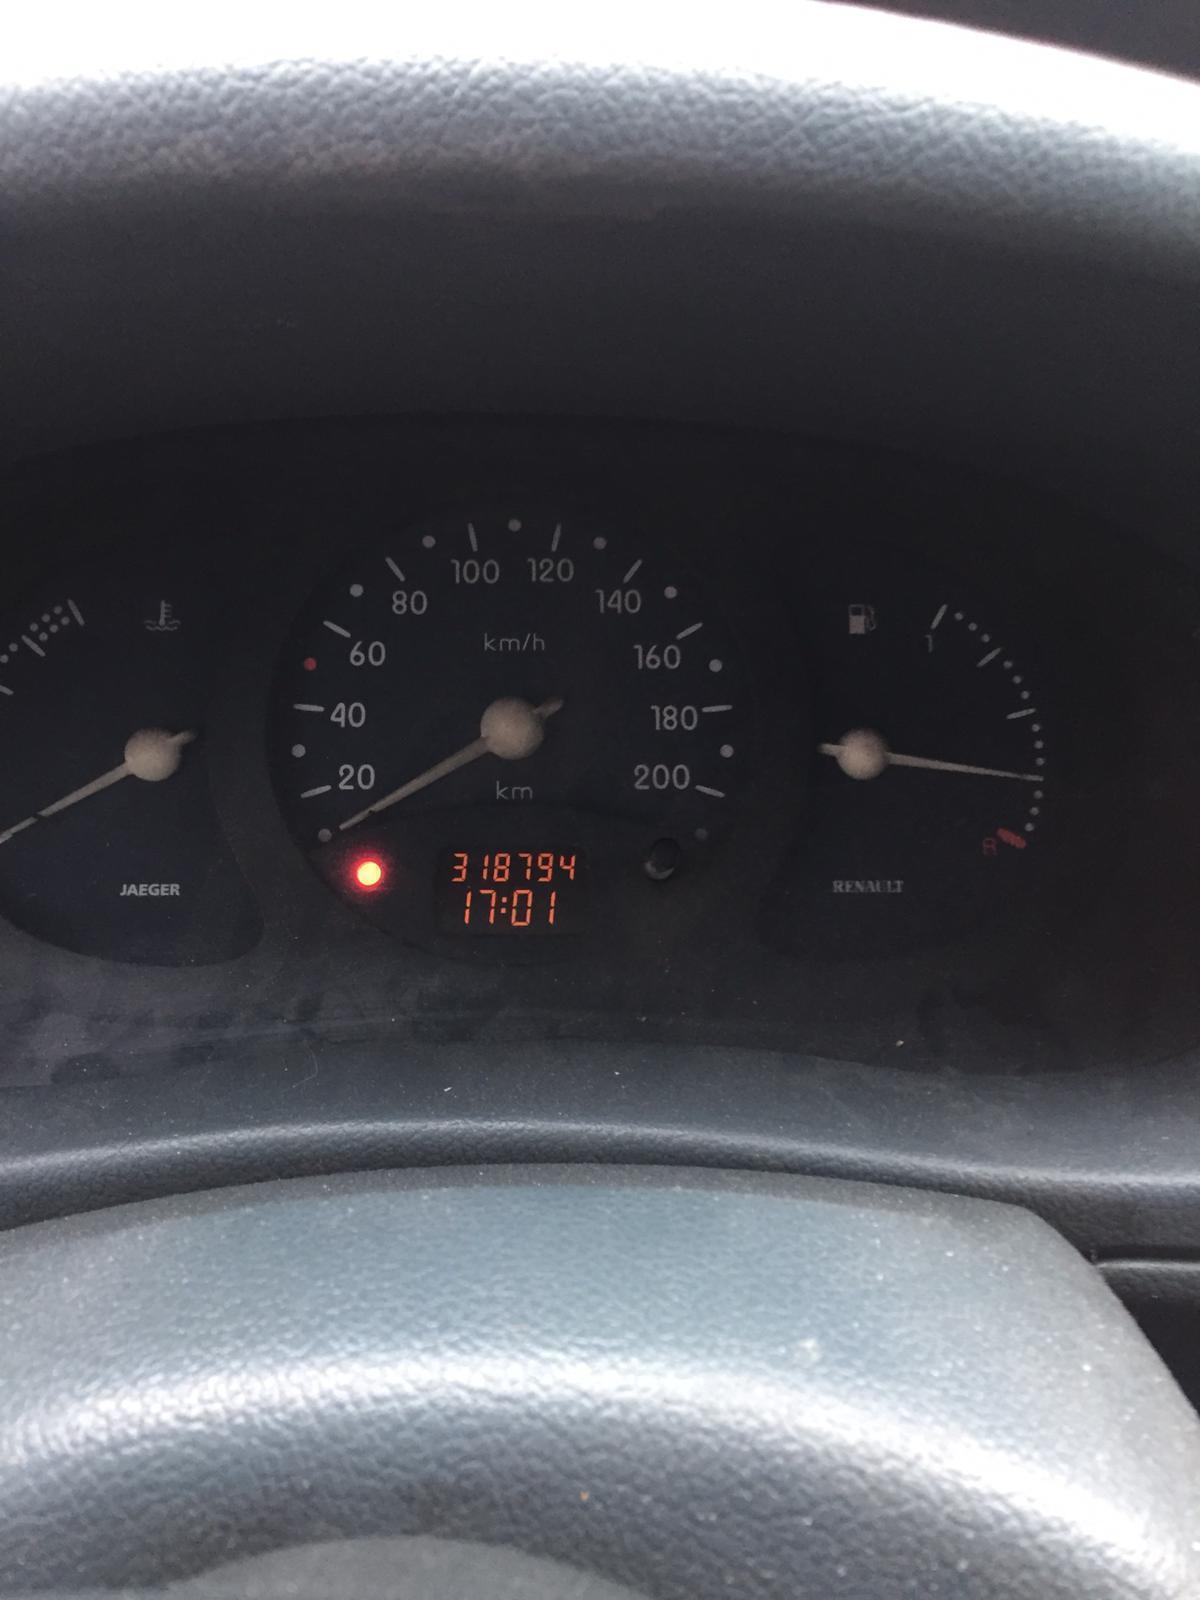0: (511, 889, 533, 927)
1: (547, 889, 556, 927), (463, 889, 471, 925), (482, 853, 489, 879)
3: (450, 852, 468, 882)
4: (558, 854, 575, 881)
7: (478, 889, 495, 923), (517, 852, 532, 879)
8: (492, 852, 511, 882)
9: (536, 852, 555, 882)
X: (500, 894, 508, 913)
odometer: (429, 842, 597, 941)
